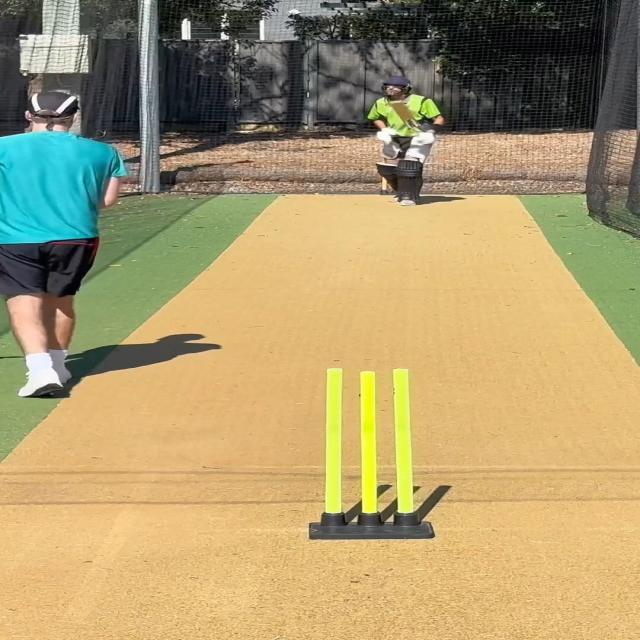stump: (304, 364, 438, 541)
